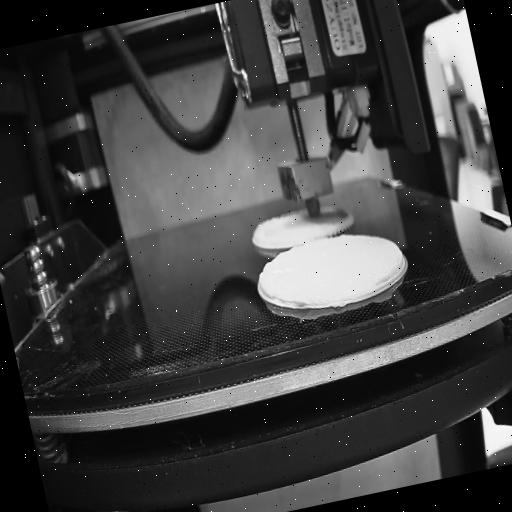over_extrusion: (254, 270, 274, 304)
